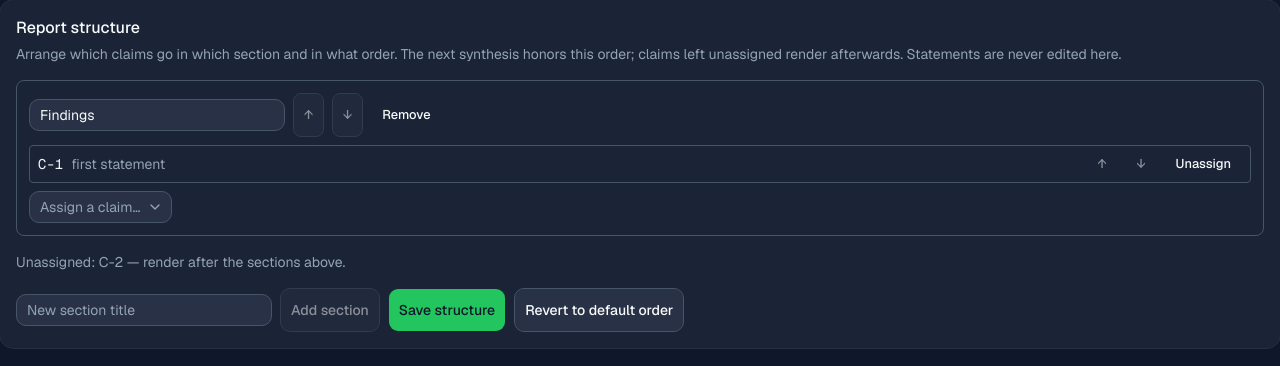
Test: StructureEditor › reverts to the default order
Expected: the text "first statement" is shown, [71,155,165,173]
Click the button "Revert to default order": point(599, 310) [514,288,684,332]
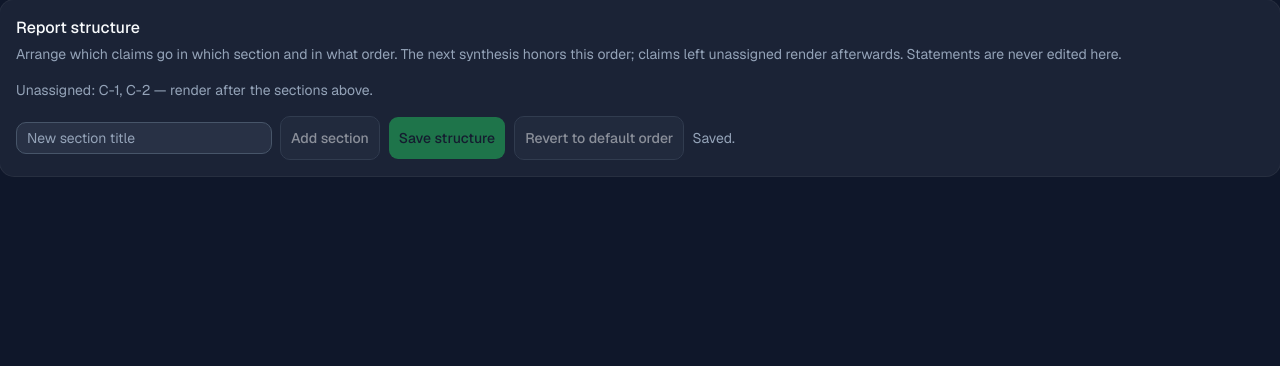
Expected: the text "Saved." is shown, [692,128,735,148]
Expected: the text with test id "unassigned-line" shows "C-1", [99,81,150,99]
